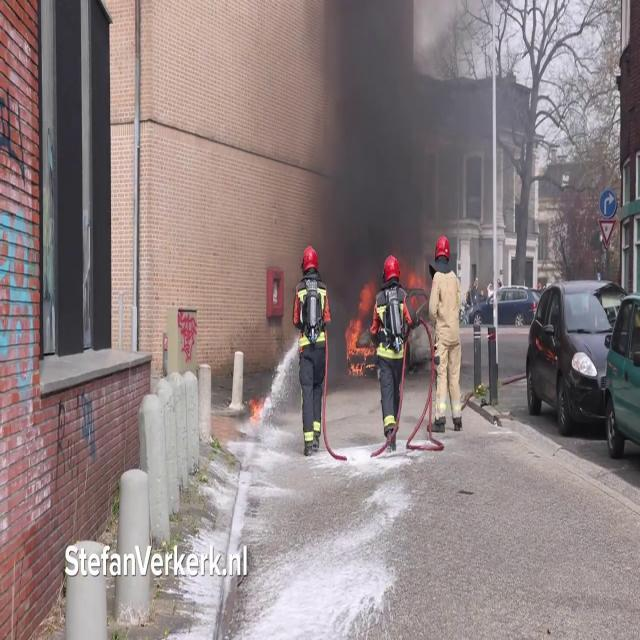Fire: (345, 288, 383, 370)
Smoke: (298, 0, 446, 278)
